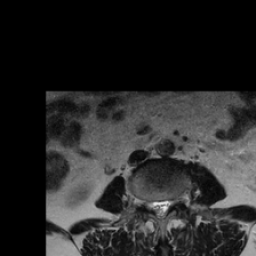CCS_normal: (158, 192, 164, 226)
LFS_stenosis: (170, 190, 177, 212)
LLS_normal: (164, 191, 170, 220)
RFS_normal: (145, 193, 152, 216)
RLS_normal: (152, 191, 158, 223)
